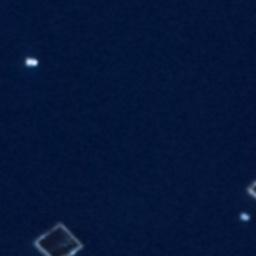square_solid: (25, 216, 90, 256)
